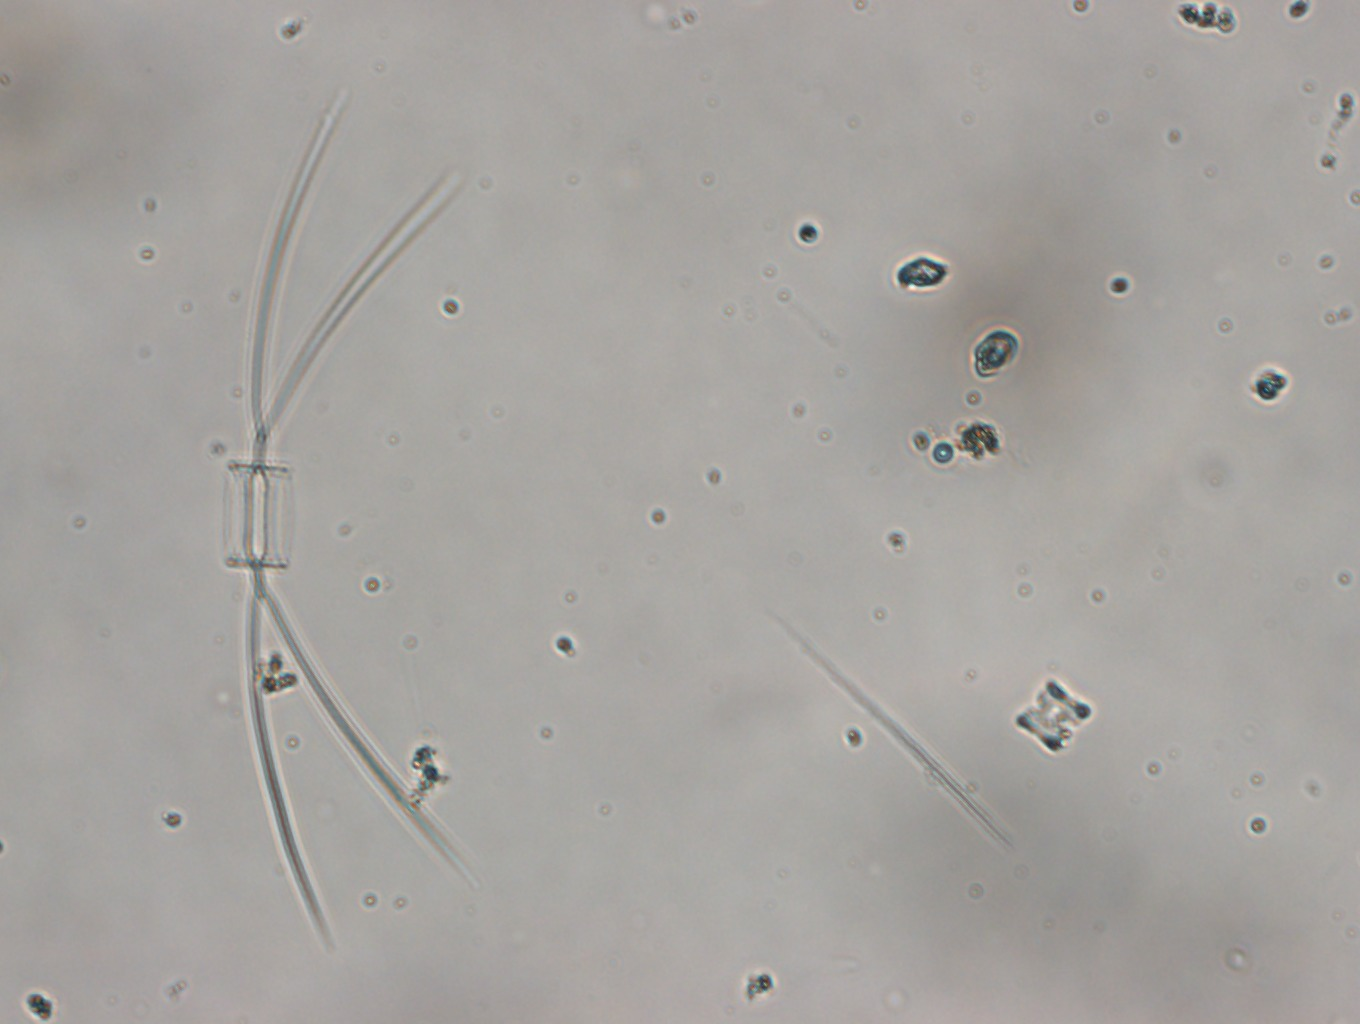chaetoceros: (211, 73, 491, 947)
